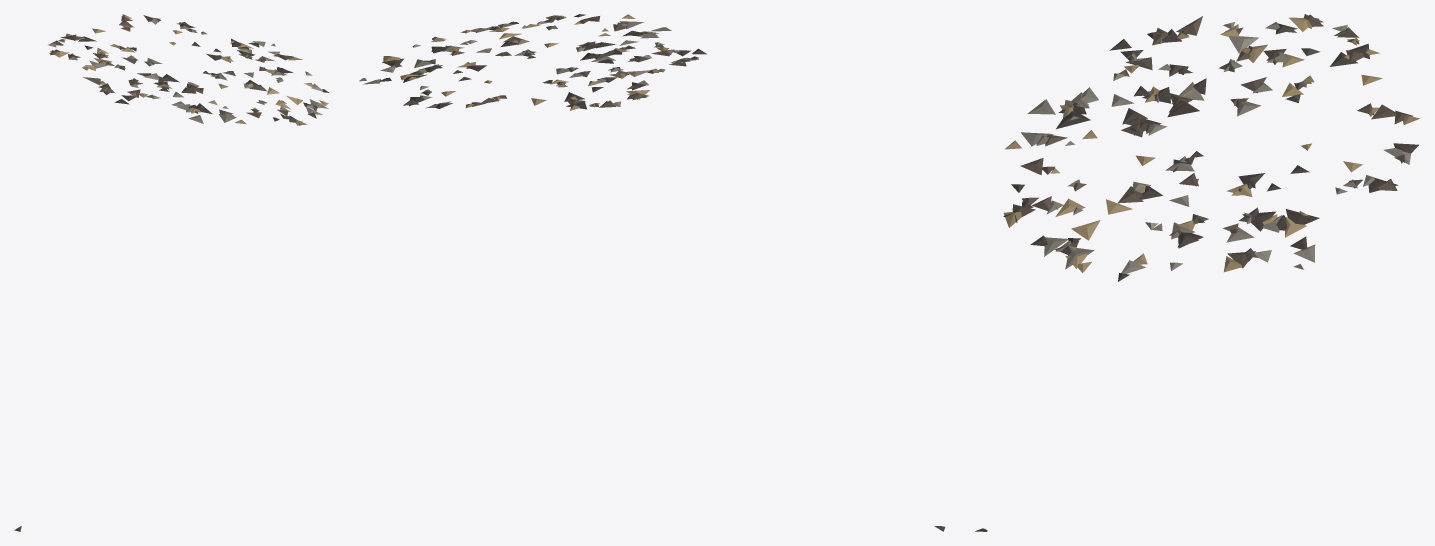
File: dam_pool_rock_detail2.glb
3 renders of one model, left to right at view 1: azimuth 30°, elevation 25°; view 2: azimuth 150°, elevation 25°; view 3: azimuth 270°, elevation 25°, orthographic. The views are drawn at different scales.
Visible parts, largest first — view 1: dam_pool_rock_detail2; view 2: dam_pool_rock_detail2; view 3: dam_pool_rock_detail2.
Part boxes in pixels (x1=…): dam_pool_rock_detail2: x1=14, y1=14, x2=329, y2=531; dam_pool_rock_detail2: x1=359, y1=14, x2=945, y2=531; dam_pool_rock_detail2: x1=975, y1=14, x2=1419, y2=531.
Bounding box in the file's own units: 12.5 × 12.41 × 8.03.
